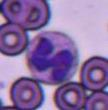N: (26, 31, 79, 85)
